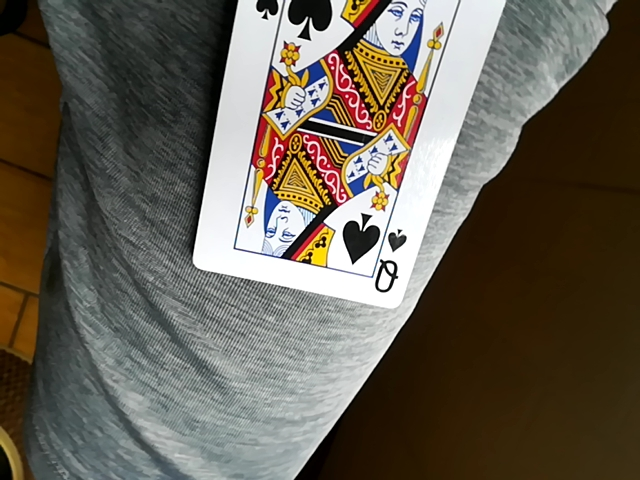ht q: (194, 0, 518, 316)
